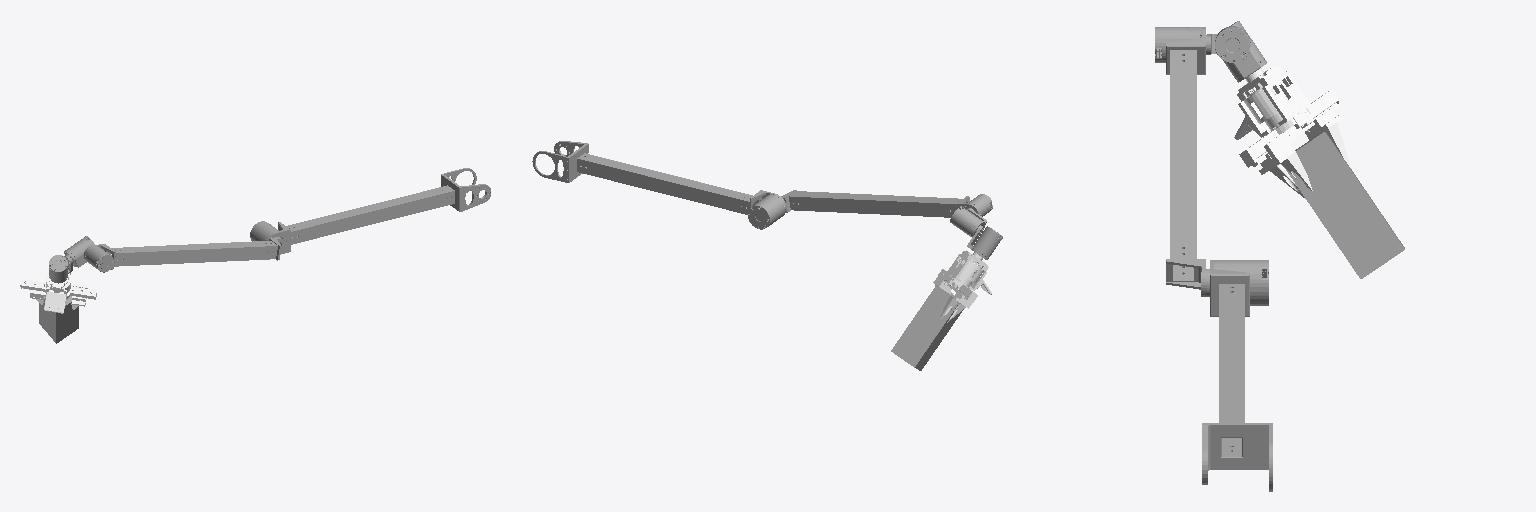
robot.urdf — car_urdf:
<?xml version="1.0"?>
<!-- Canonical runtime URDF for robot24 control and MoveIt alignment. -->
<robot name="car_urdf">
  <material name="robot24_gray">
    <color rgba="0.70 0.70 0.70 1.0"/>
  </material>
  <material name="robot24_white">
    <color rgba="1.0 1.0 1.0 1.0"/>
  </material>

  <link name="base_link">
    <visual>
      <geometry>
        <mesh filename="package://car_urdf/meshes/base_link.STL"/>
      </geometry>
      <material name="robot24_gray"/>
    </visual>
    <collision>
      <geometry>
        <mesh filename="package://car_urdf/meshes/base_link.STL"/>
      </geometry>
    </collision>
  </link>
  <link name="left_front_wheel_link"/>
  <link name="right_front_wheel_link"/>
  <link name="left_front_arm_link"/>
  <link name="right_front_arm_link"/>
  <link name="left_rear_arm_link"/>
  <link name="right_rear_arm_link"/>
  <link name="joint_1_link">
    <visual>
      <geometry>
        <mesh filename="package://car_urdf/meshes/link1.STL"/>
      </geometry>
      <material name="robot24_gray"/>
    </visual>
    <collision>
      <geometry>
        <mesh filename="package://car_urdf/meshes/link1.STL"/>
      </geometry>
    </collision>
  </link>
  <link name="joint_2_link">
    <visual>
      <geometry>
        <mesh filename="package://car_urdf/meshes/link2.STL"/>
      </geometry>
      <material name="robot24_gray"/>
    </visual>
    <collision>
      <geometry>
        <mesh filename="package://car_urdf/meshes/link2.STL"/>
      </geometry>
    </collision>
  </link>
  <link name="joint_3_link">
    <visual>
      <geometry>
        <mesh filename="package://car_urdf/meshes/link3.STL"/>
      </geometry>
      <material name="robot24_gray"/>
    </visual>
    <collision>
      <geometry>
        <mesh filename="package://car_urdf/meshes/link3.STL"/>
      </geometry>
    </collision>
  </link>
  <link name="joint_4_link">
    <visual>
      <geometry>
        <mesh filename="package://car_urdf/meshes/link4.STL"/>
      </geometry>
      <material name="robot24_gray"/>
    </visual>
    <collision>
      <geometry>
        <mesh filename="package://car_urdf/meshes/link4.STL"/>
      </geometry>
    </collision>
  </link>
  <link name="joint_5_link">
    <visual>
      <geometry>
        <mesh filename="package://car_urdf/meshes/link5.STL"/>
      </geometry>
      <material name="robot24_white"/>
    </visual>
    <collision>
      <geometry>
        <mesh filename="package://car_urdf/meshes/link5.STL"/>
      </geometry>
    </collision>
  </link>
  <link name="joint_6_link">
    <visual>
      <origin xyz="0.08 0 0" rpy="0 0 0"/>
      <geometry>
        <box size="0.16 0.06 0.06"/>
      </geometry>
      <material name="robot24_gray"/>
    </visual>
    <collision>
      <origin xyz="0.08 0 0" rpy="0 0 0"/>
      <geometry>
        <box size="0.16 0.06 0.06"/>
      </geometry>
    </collision>
  </link>
  <link name="left_gripper_finger_link">
    <visual>
      <geometry>
        <mesh filename="package://car_urdf/meshes/linkzhua1.STL"/>
      </geometry>
      <material name="robot24_white"/>
    </visual>
    <collision>
      <geometry>
        <mesh filename="package://car_urdf/meshes/linkzhua1.STL"/>
      </geometry>
    </collision>
  </link>
  <link name="right_gripper_finger_link">
    <visual>
      <geometry>
        <mesh filename="package://car_urdf/meshes/linkzhua2.STL"/>
      </geometry>
      <material name="robot24_white"/>
    </visual>
    <collision>
      <geometry>
        <mesh filename="package://car_urdf/meshes/linkzhua2.STL"/>
      </geometry>
    </collision>
  </link>
  <link name="ecb_joint_02_link"/>
  <link name="ecb_joint_03_link"/>
  <link name="ecb_joint_04_link"/>
  <link name="ecb_joint_05_link"/>

  <joint name="left_front_wheel_joint" type="continuous">
    <parent link="base_link"/>
    <child link="left_front_wheel_link"/>
    <origin xyz="0.28 0.18 -0.08" rpy="0 1.57079632679 0"/>
    <axis xyz="0 0 1"/>
    <limit effort="200" velocity="20.0"/>
  </joint>

  <joint name="right_front_wheel_joint" type="continuous">
    <parent link="base_link"/>
    <child link="right_front_wheel_link"/>
    <origin xyz="0.28 -0.18 -0.08" rpy="0 1.57079632679 0"/>
    <axis xyz="0 0 1"/>
    <limit effort="200" velocity="20.0"/>
  </joint>

  <joint name="left_front_arm_joint" type="revolute">
    <parent link="base_link"/>
    <child link="left_front_arm_link"/>
    <origin xyz="0.25 0.18 0.0" rpy="0 0 0"/>
    <axis xyz="0 1 0"/>
    <limit lower="-3.1416" upper="3.1416" effort="120" velocity="1.5"/>
  </joint>

  <joint name="right_front_arm_joint" type="revolute">
    <parent link="base_link"/>
    <child link="right_front_arm_link"/>
    <origin xyz="0.25 -0.18 0.0" rpy="0 0 0"/>
    <axis xyz="0 1 0"/>
    <limit lower="-3.1416" upper="3.1416" effort="120" velocity="1.5"/>
  </joint>

  <joint name="left_rear_arm_joint" type="revolute">
    <parent link="base_link"/>
    <child link="left_rear_arm_link"/>
    <origin xyz="-0.25 0.18 0.0" rpy="0 0 0"/>
    <axis xyz="0 1 0"/>
    <limit lower="-3.1416" upper="3.1416" effort="120" velocity="1.5"/>
  </joint>

  <joint name="right_rear_arm_joint" type="revolute">
    <parent link="base_link"/>
    <child link="right_rear_arm_link"/>
    <origin xyz="-0.25 -0.18 0.0" rpy="0 0 0"/>
    <axis xyz="0 1 0"/>
    <limit lower="-3.1416" upper="3.1416" effort="120" velocity="1.5"/>
  </joint>

  <joint name="ecb_joint_02" type="revolute">
    <parent link="base_link"/>
    <child link="ecb_joint_02_link"/>
    <origin xyz="0.0 0.0 0.0" rpy="0 0 0"/>
    <axis xyz="0 0 1"/>
    <limit lower="-3.1416" upper="3.1416" effort="1" velocity="1.0"/>
  </joint>

  <joint name="ecb_joint_03" type="revolute">
    <parent link="base_link"/>
    <child link="ecb_joint_03_link"/>
    <origin xyz="0.0 0.0 0.0" rpy="0 0 0"/>
    <axis xyz="0 0 1"/>
    <limit lower="-3.1416" upper="3.1416" effort="1" velocity="1.0"/>
  </joint>

  <joint name="ecb_joint_04" type="revolute">
    <parent link="base_link"/>
    <child link="ecb_joint_04_link"/>
    <origin xyz="0.0 0.0 0.0" rpy="0 0 0"/>
    <axis xyz="0 0 1"/>
    <limit lower="-3.1416" upper="3.1416" effort="1" velocity="1.0"/>
  </joint>

  <joint name="ecb_joint_05" type="revolute">
    <parent link="base_link"/>
    <child link="ecb_joint_05_link"/>
    <origin xyz="0.0 0.0 0.0" rpy="0 0 0"/>
    <axis xyz="0 0 1"/>
    <limit lower="-3.1416" upper="3.1416" effort="1" velocity="1.0"/>
  </joint>

  <joint name="shoulder_yaw_joint" type="revolute">
    <parent link="base_link"/>
    <child link="joint_1_link"/>
    <origin xyz="0 -0.00419999972019724 0.054" rpy="-1.5707963267949 0 1.57030745170863"/>
    <axis xyz="-1 0 0"/>
    <limit lower="-31.416" upper="31.416" effort="100" velocity="3.14"/>
  </joint>

  <joint name="shoulder_pitch_joint" type="revolute">
    <parent link="joint_1_link"/>
    <child link="joint_2_link"/>
    <origin xyz="-0.0190610592148176 0.0037785921272299 0.492983162251151" rpy="0 0 0"/>
    <axis xyz="1 0 0"/>
    <limit lower="-31.416" upper="31.416" effort="100" velocity="3.14"/>
  </joint>

  <joint name="elbow_pitch_joint" type="revolute">
    <parent link="joint_2_link"/>
    <child link="joint_3_link"/>
    <origin xyz="-0.0634554958516763 -0.08466955254996 0.44806252567829" rpy="0 0 0"/>
    <axis xyz="-1 0 0"/>
    <limit lower="-31.416" upper="31.416" effort="100" velocity="3.14"/>
  </joint>

  <joint name="wrist_pitch_joint" type="revolute">
    <parent link="joint_3_link"/>
    <child link="joint_4_link"/>
    <origin xyz="0.0867019191362518 -0.00673445031368503 -0.0154894931182463" rpy="-0.40986791242469 -0.000123856296620052 0"/>
    <axis xyz="0 0 -1"/>
    <limit lower="-31.416" upper="31.416" effort="100" velocity="3.14"/>
  </joint>

  <joint name="wrist_roll_joint" type="revolute">
    <parent link="joint_4_link"/>
    <child link="joint_5_link"/>
    <origin xyz="-0.00950565079420626 -0.0139732817540251 0.0866999999999829" rpy="1.5703914601342 0 0.973432793021899"/>
    <axis xyz="-1 0 0"/>
    <limit lower="-31.416" upper="31.416" effort="100" velocity="3.14"/>
  </joint>

  <joint name="wrist_yaw_joint" type="revolute">
    <parent link="joint_5_link"/>
    <child link="joint_6_link"/>
    <origin xyz="0.155699999999986 0 0" rpy="0 0 0"/>
    <axis xyz="0 0 1"/>
    <limit lower="-31.416" upper="31.416" effort="100" velocity="3.14"/>
  </joint>

  <joint name="left_gripper_finger_joint" type="prismatic">
    <parent link="joint_6_link"/>
    <child link="left_gripper_finger_link"/>
    <origin xyz="0 3.28514947361943 3.52837553837062" rpy="2.27424838462147 -0.821045734463187 1.57079632679491"/>
    <axis xyz="-1 0 0"/>
    <limit lower="4.748646" upper="4.808646" effort="100" velocity="0.2"/>
  </joint>

  <joint name="right_gripper_finger_joint" type="prismatic">
    <parent link="joint_6_link"/>
    <child link="right_gripper_finger_link"/>
    <origin xyz="0.00000000146632 -3.28527230451576 -3.52826115788185" rpy="2.12843991961849 -0.226127160063763 1.91590207174177"/>
    <axis xyz="0.789038133883824 0.605176450061446 -0.105736878940877"/>
    <limit lower="4.748646" upper="4.808646" effort="100" velocity="0.2"/>
    <mimic joint="left_gripper_finger_joint" multiplier="1.0" offset="0.0"/>
  </joint>
</robot>

--- What the picture shows (computed from the rendered views, not written in the file) ---
3 views of the same robot in one strip: view 1: azimuth 30°, elevation 25°; view 2: azimuth 150°, elevation 25°; view 3: azimuth 270°, elevation 25° (orthographic).
Robot: car_urdf — 19 links, 18 joints (14 revolute, 2 continuous, 2 prismatic); root link base_link; default pose: all joints at 0 but 2 set to mid-range because 0 is outside their limits (left_gripper_finger_joint = 4.78, right_gripper_finger_joint = 4.78).
Visible links, largest first — view 1: joint_1_link, joint_2_link, joint_5_link, joint_6_link, joint_4_link; view 2: joint_1_link, joint_2_link, joint_6_link, joint_5_link, joint_4_link, joint_3_link; view 3: joint_1_link, joint_2_link, joint_6_link, joint_5_link, right_gripper_finger_link, joint_3_link, left_gripper_finger_link, joint_4_link.
Link boxes in pixels (bbox=[...]): joint_1_link: bbox=[250, 168, 490, 253]; joint_2_link: bbox=[84, 237, 285, 272]; joint_5_link: bbox=[20, 272, 96, 313]; joint_6_link: bbox=[39, 292, 78, 343]; joint_4_link: bbox=[49, 255, 72, 283]; joint_1_link: bbox=[532, 141, 786, 229]; joint_2_link: bbox=[781, 190, 992, 217]; joint_6_link: bbox=[891, 286, 963, 370]; joint_5_link: bbox=[938, 250, 991, 302]; joint_4_link: bbox=[967, 226, 1002, 259]; joint_3_link: bbox=[950, 206, 986, 236]; joint_1_link: bbox=[1202, 260, 1272, 491]; joint_2_link: bbox=[1155, 27, 1209, 296]; joint_6_link: bbox=[1286, 131, 1404, 278]; joint_5_link: bbox=[1234, 66, 1341, 167]; right_gripper_finger_link: bbox=[1259, 114, 1312, 197]; joint_3_link: bbox=[1206, 26, 1250, 62]; left_gripper_finger_link: bbox=[1305, 108, 1350, 167]; joint_4_link: bbox=[1224, 21, 1266, 82].
Bounding box of the posed robot: 1.07 × 0.2801 × 0.3063 m (x, y, z).
7 mesh visuals loaded from 8 distinct referenced files (7 binary STL); not drawn: 1 (reference not matched to a file when rendering).
